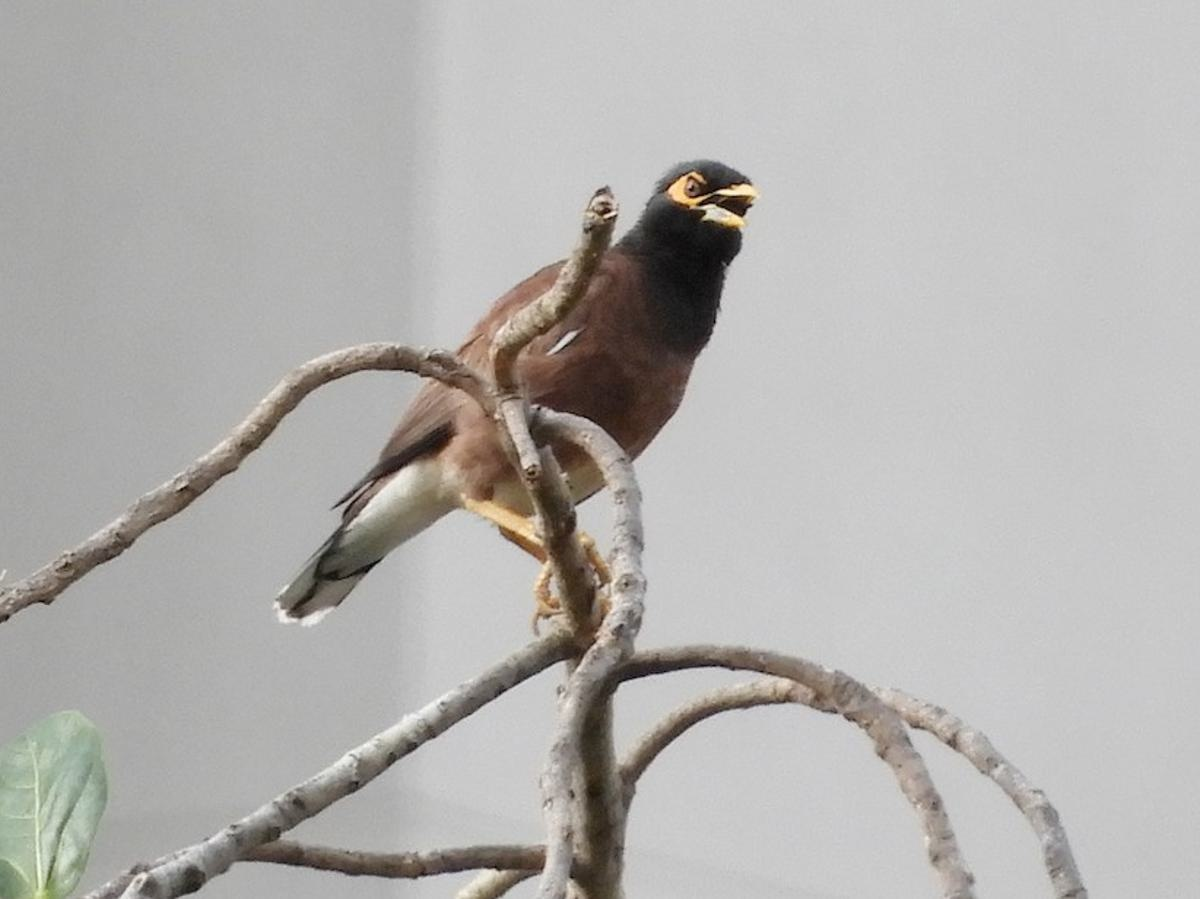myna: (279, 145, 821, 623)
